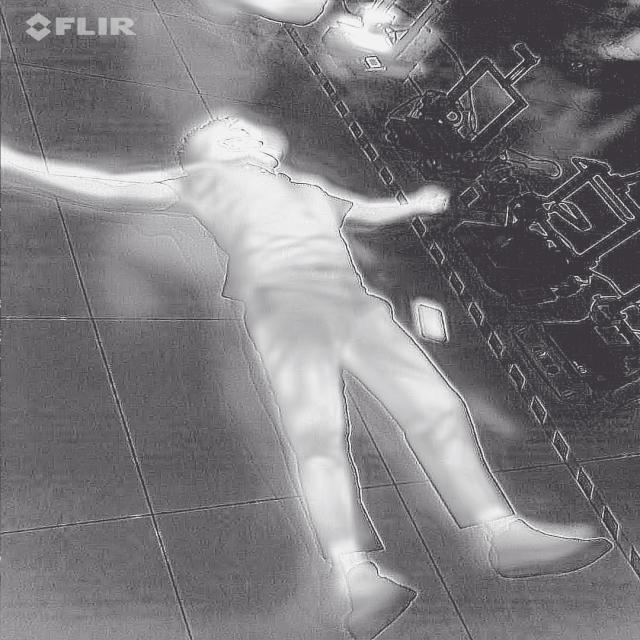Victim: (0, 109, 621, 636)
